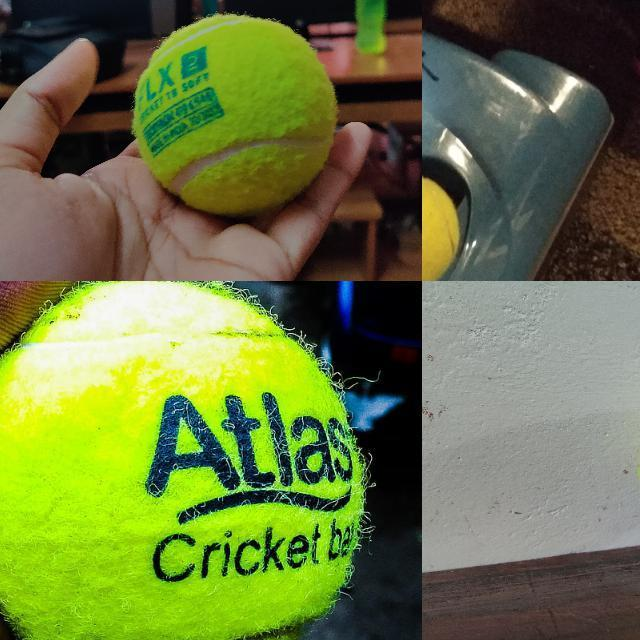tennis-ball: (0, 281, 367, 639), (134, 15, 337, 216), (422, 169, 461, 280)
